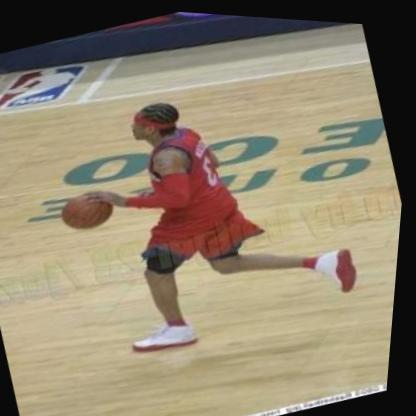basketball: (52, 175, 130, 243)
